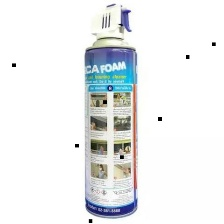aerosol_cans: (80, 1, 142, 220)
